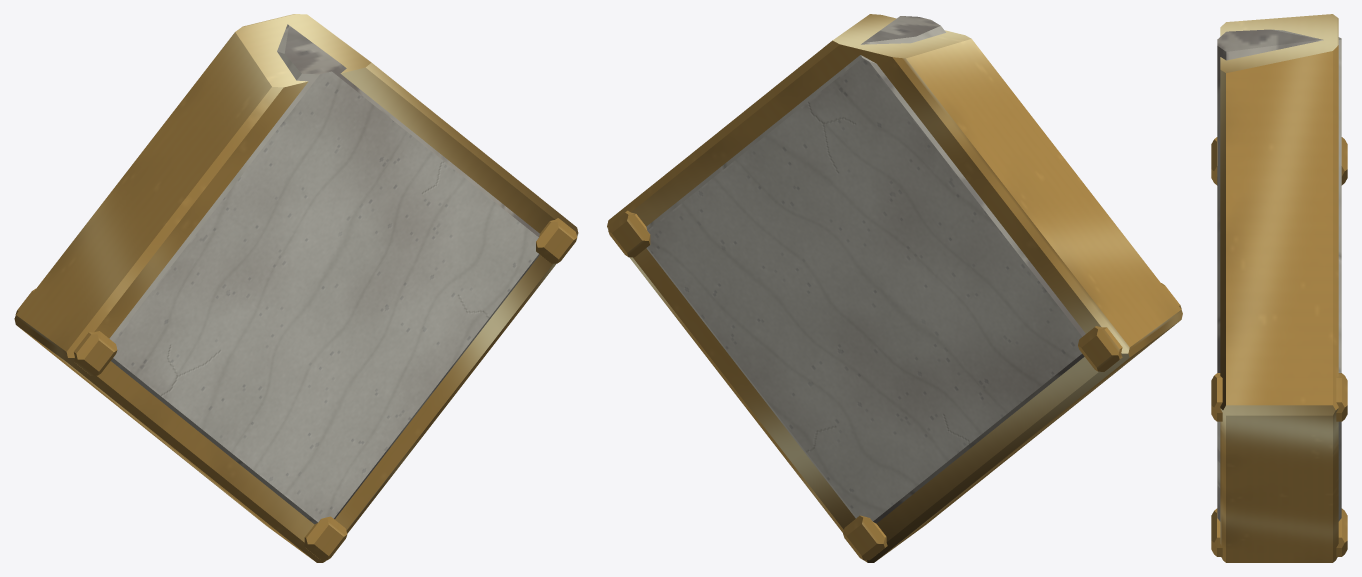
File: uncommon_runestone.obj
The picture shows the model from 3 angles, left to right: view 1: azimuth 30°, elevation 25°; view 2: azimuth 150°, elevation 25°; view 3: azimuth 270°, elevation 25°; orthographic projection. The views are drawn at different scales.
Visible parts, largest first — view 1: Ivory_seal, Solid_gold_binding, Corner_clasp_-1_1, Corner_clasp_-1_-1, Corner_clasp_1_-1; view 2: Ivory_seal, Solid_gold_binding, Corner_clasp_-1_1, Corner_clasp_-1_-1, Corner_clasp_1_-1; view 3: Solid_gold_binding, Ivory_seal, Corner_clasp_1_-1, Corner_clasp_-1_-1, Corner_clasp_-1_1.
Part boxes in pixels (box(x1,y1,x2,y2)): Ivory_seal: box(109, 24, 539, 524); Solid_gold_binding: box(14, 14, 578, 562); Corner_clasp_-1_1: box(15, 288, 117, 375); Corner_clasp_-1_-1: box(303, 516, 347, 560); Corner_clasp_1_-1: box(536, 218, 577, 263); Ivory_seal: box(646, 16, 1085, 523); Solid_gold_binding: box(607, 14, 1182, 562); Corner_clasp_-1_1: box(1078, 283, 1181, 371); Corner_clasp_-1_-1: box(843, 515, 887, 560); Corner_clasp_1_-1: box(608, 210, 650, 257); Solid_gold_binding: box(1220, 14, 1338, 562); Ivory_seal: box(1217, 29, 1341, 521); Corner_clasp_1_-1: box(1211, 373, 1347, 421); Corner_clasp_-1_-1: box(1211, 508, 1347, 556); Corner_clasp_-1_1: box(1211, 137, 1347, 185).
Size of the model in its own units: 0.4945 by 0.4651 by 0.1089.
